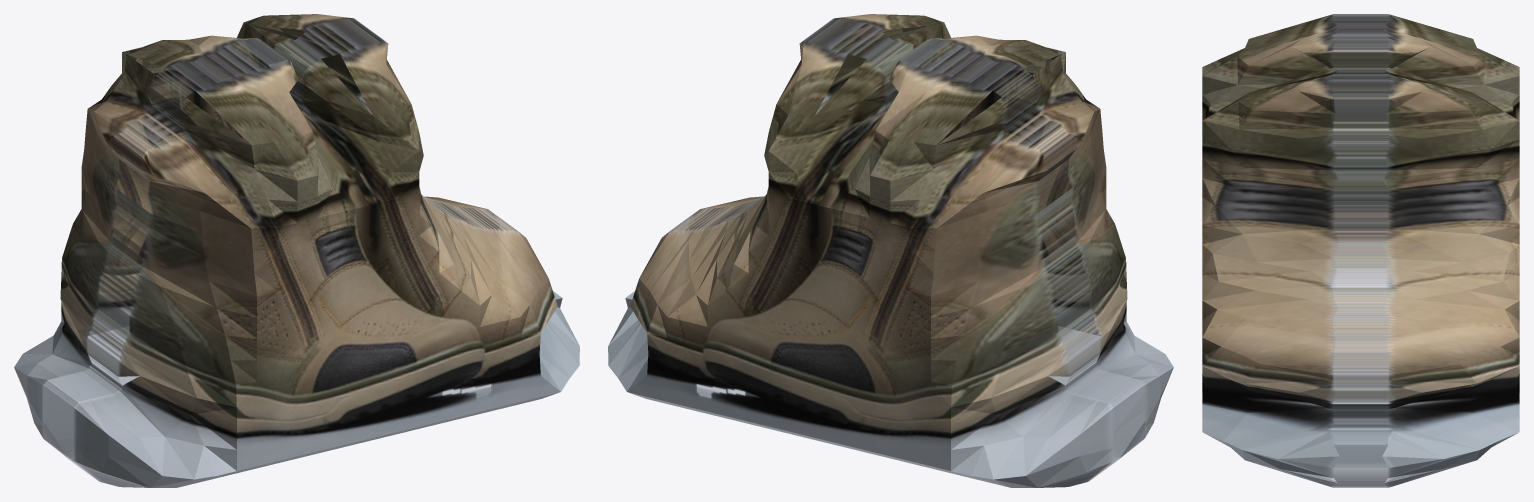
The model's file is oxford-horizon-urban-riding-shoe-138.glb.
The picture shows the model from 3 angles, left to right: view 1: azimuth 30°, elevation 25°; view 2: azimuth 150°, elevation 25°; view 3: azimuth 270°, elevation 25°; orthographic projection. The views are drawn at different scales.
Parts seen in each view (by area): view 1: world; view 2: world; view 3: world.
Boxes of the visible parts, x1,y1,x2,y2 form: world: [14, 14, 579, 487]; world: [608, 14, 1173, 487]; world: [1202, 14, 1519, 487].
Size of the model in its own units: 1 by 0.7328 by 0.62.
Materials: 1 (1 with a texture image).
